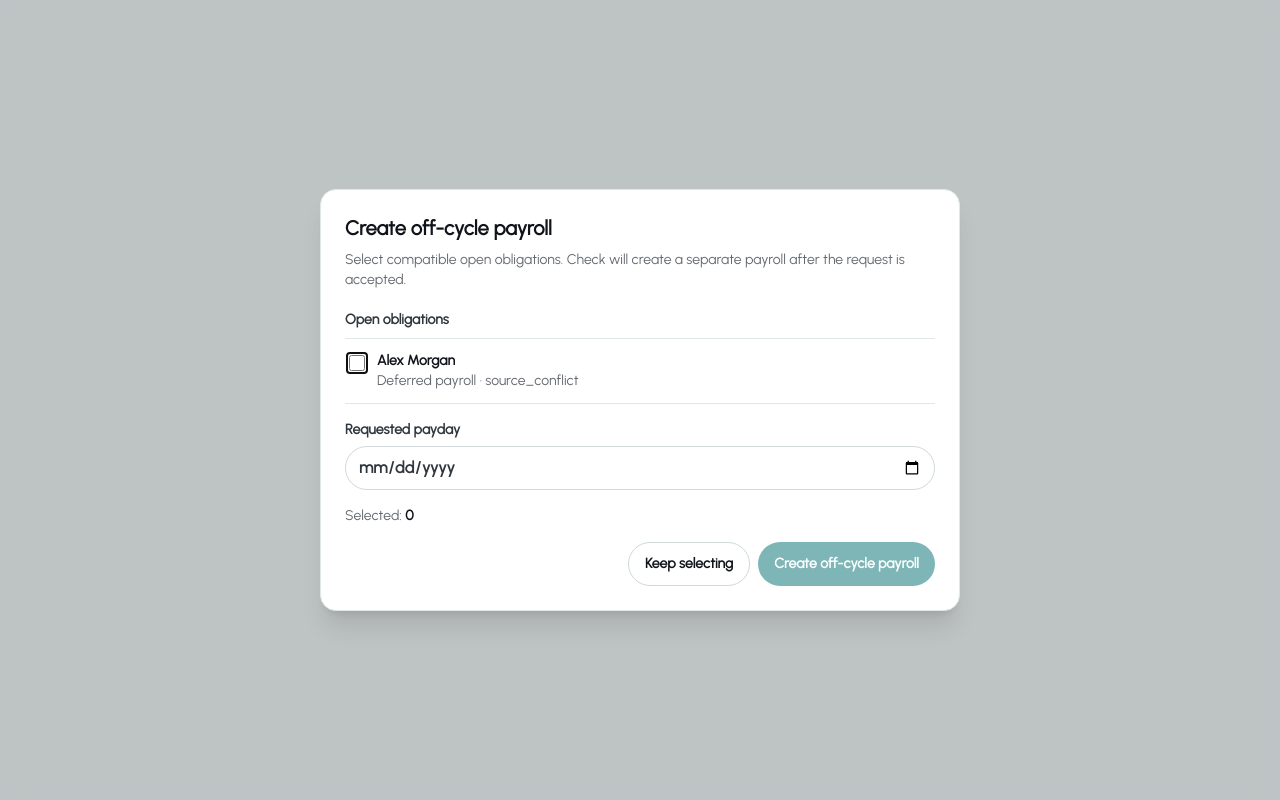
Test: CreateOffCyclePayrollDialog › reuses the same idempotency key after an ambiguous server failure
This screenshot has width=1280, height=800.
Later steps or results of the test are not shown.
Click the checkbox labelled "Alex Morgan" at {"x": 357, "y": 363}, box [349,355,365,371]
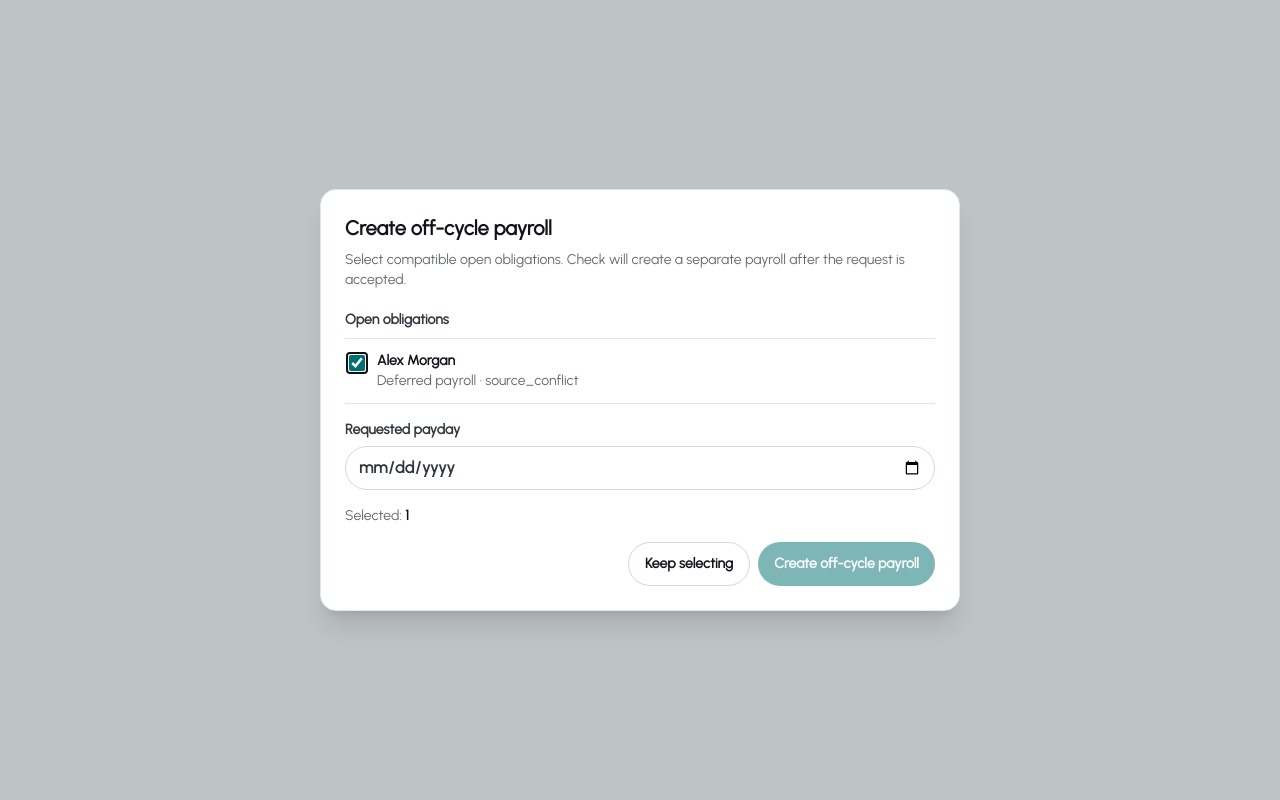
Type "2026-09-04" into the date field labelled "Requested payday" at {"x": 640, "y": 468}, box [345,446,935,490]
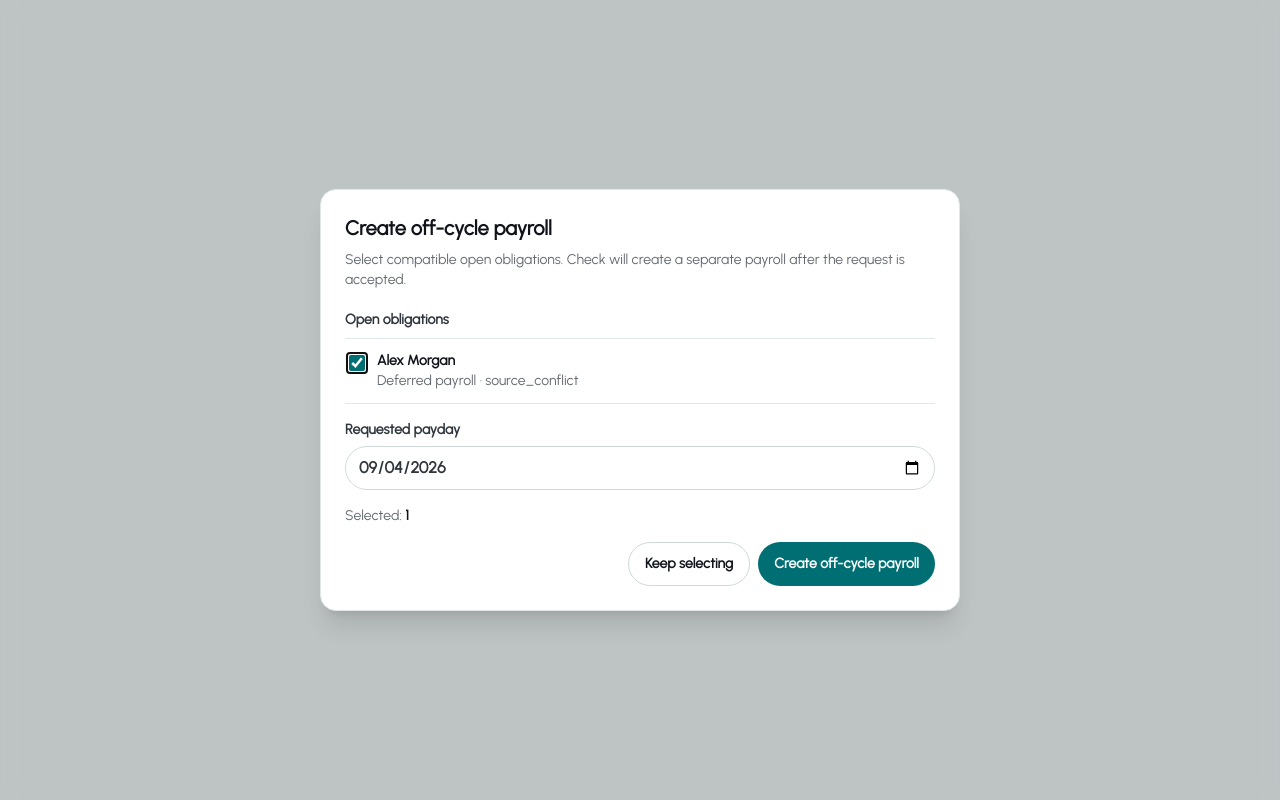
Click the button "Create off-cycle payroll" at {"x": 847, "y": 564}, box [758,542,935,586]
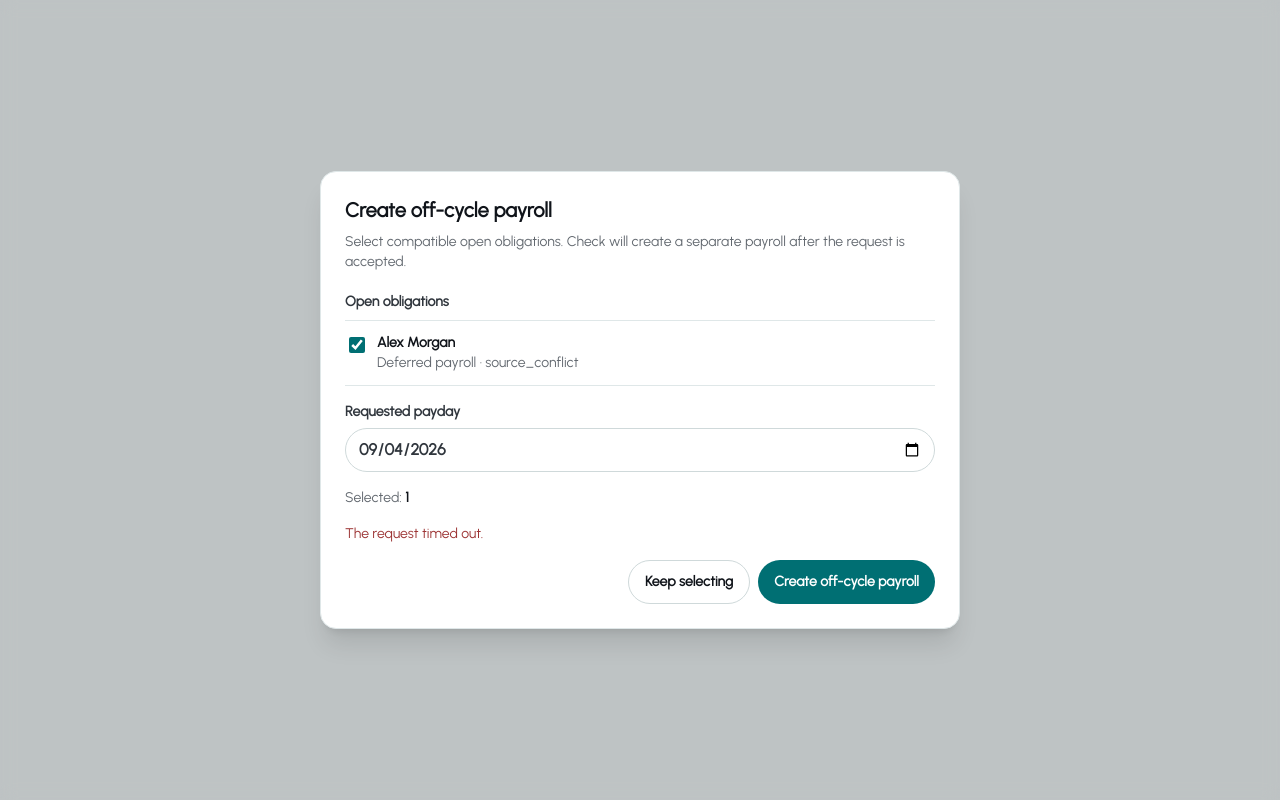
Now the message shows "timed out", box [345,525,483,542]
